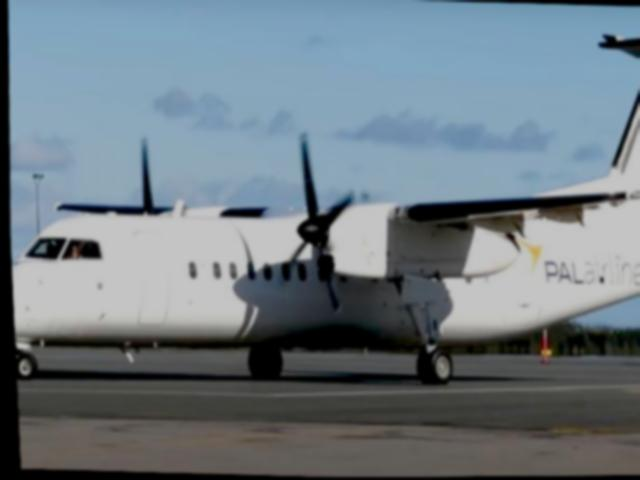iha: (0, 8, 640, 382)
